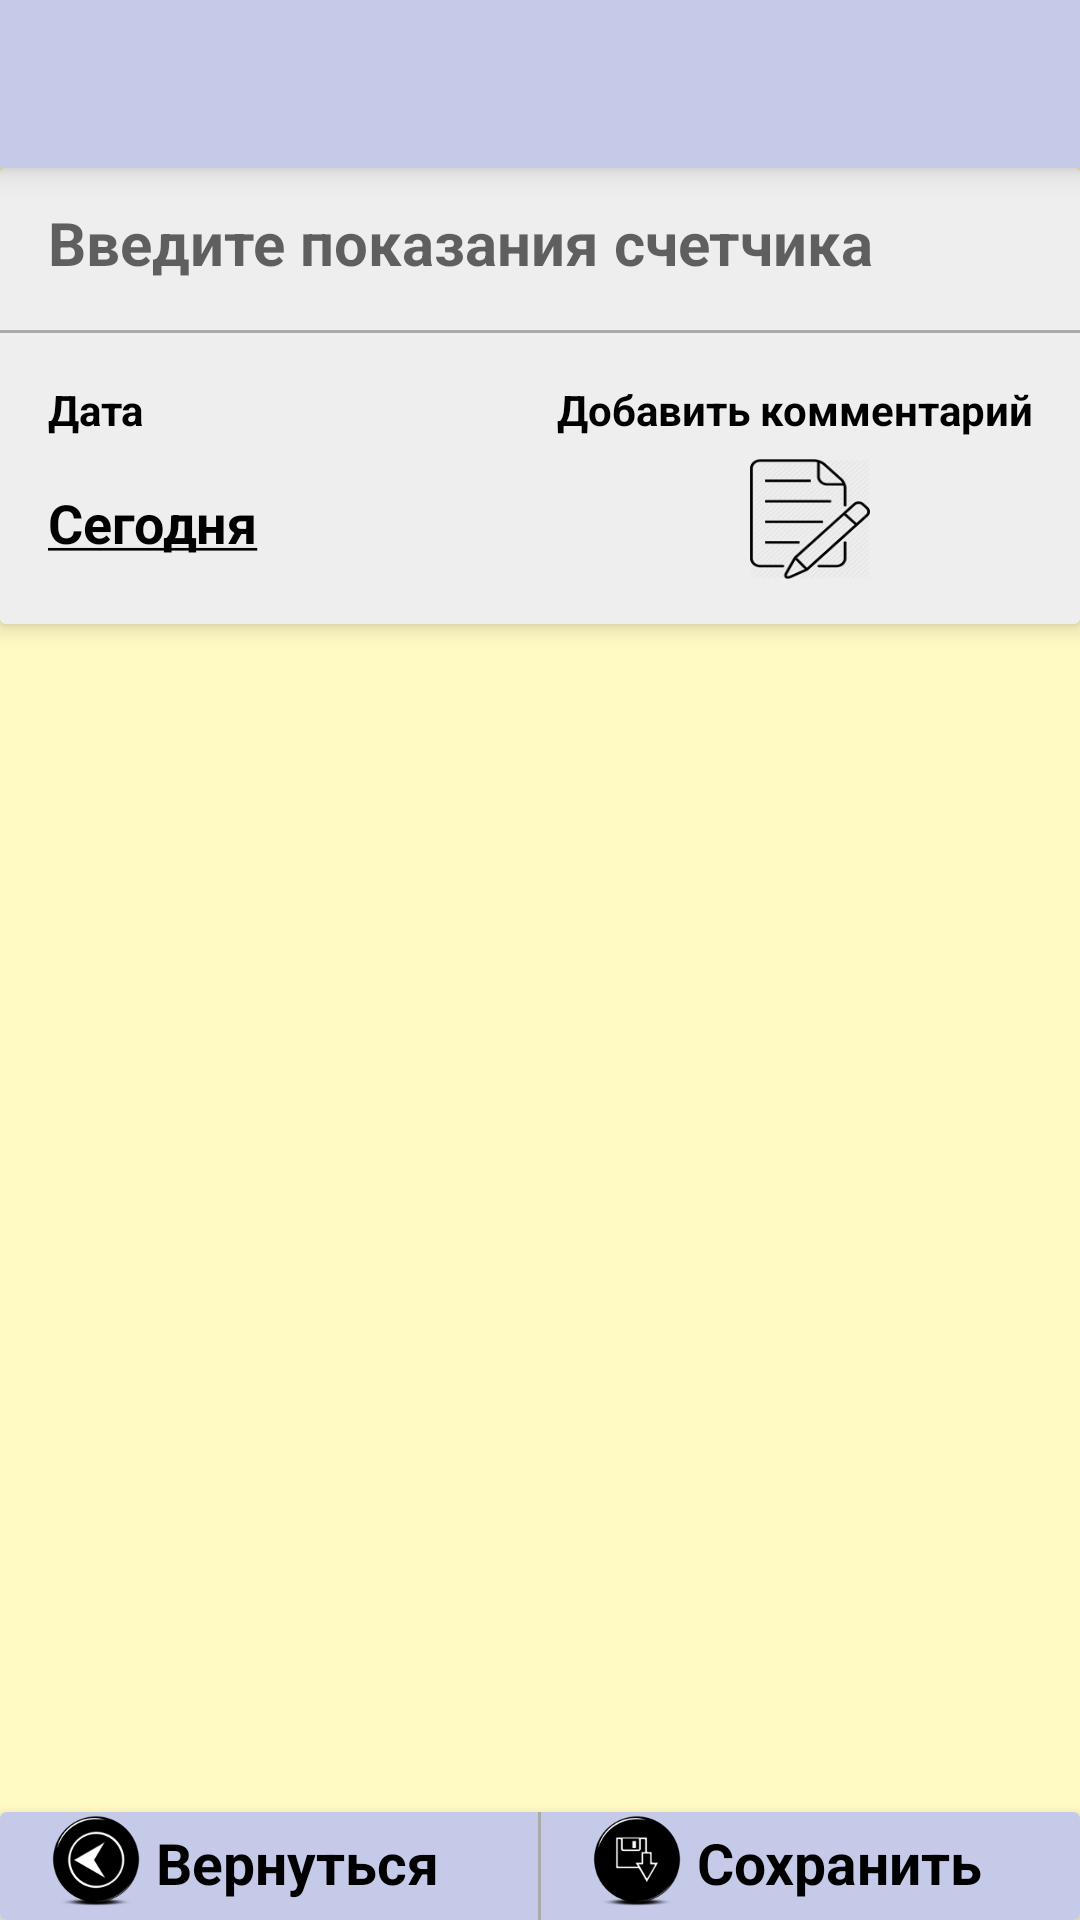

Where to tap for icons on this 1080*1920 app screen, as point (x, y):
back: point (96, 1860)
note: point (810, 519)
save: point (637, 1860)
